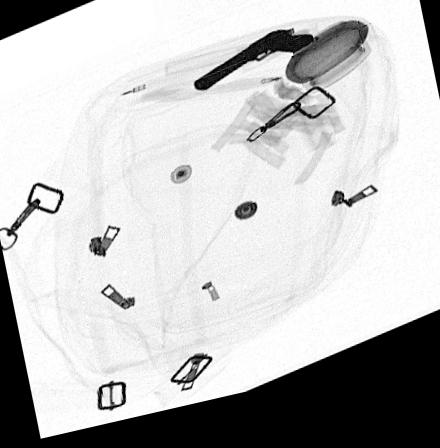Gun: (191, 40, 313, 99)
